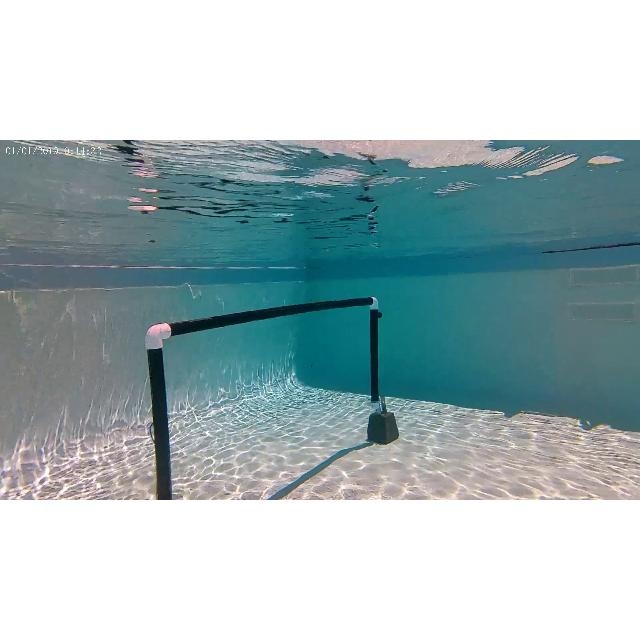prequal gate: (145, 294, 381, 498)
prequal gate leg l: (142, 324, 184, 501)
prequal gate leg r: (359, 294, 401, 448)
